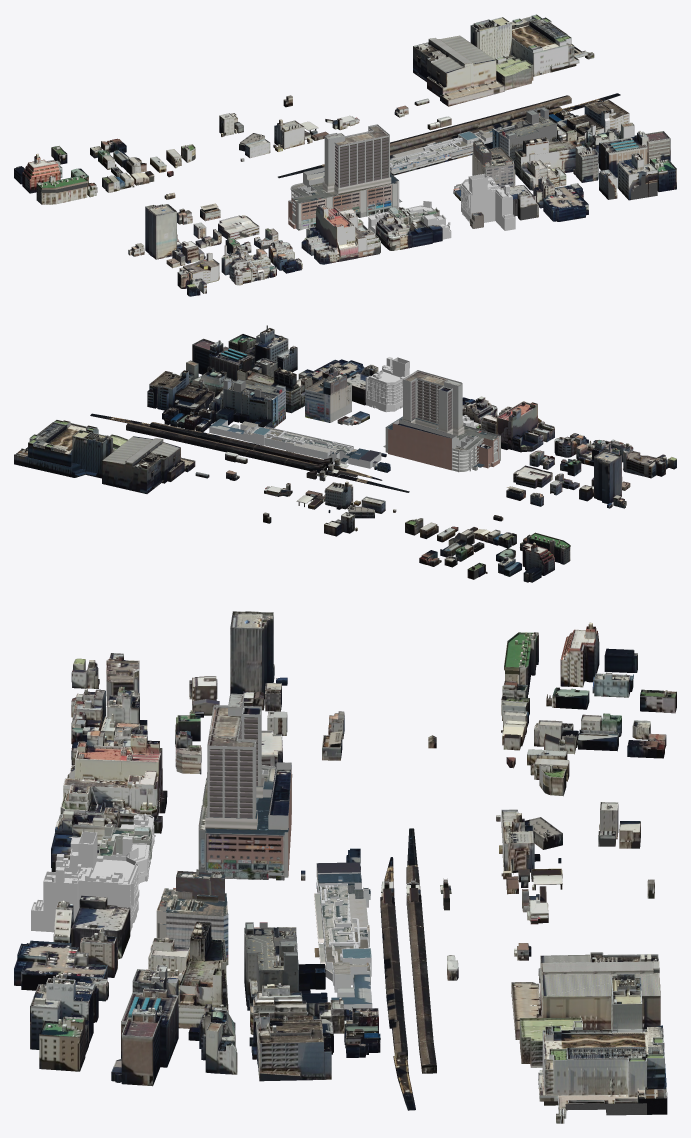
The model's file is lod3-station-7-1-packed.glb.
3 renders of one model, top to bottom at view 1: azimuth 30°, elevation 25°; view 2: azimuth 150°, elevation 25°; view 3: azimuth 270°, elevation 25°, orthographic. The views are drawn at different scales.
Size of the model in its own units: 617 by 83.69 by 372.
33 materials, 32 textured.
